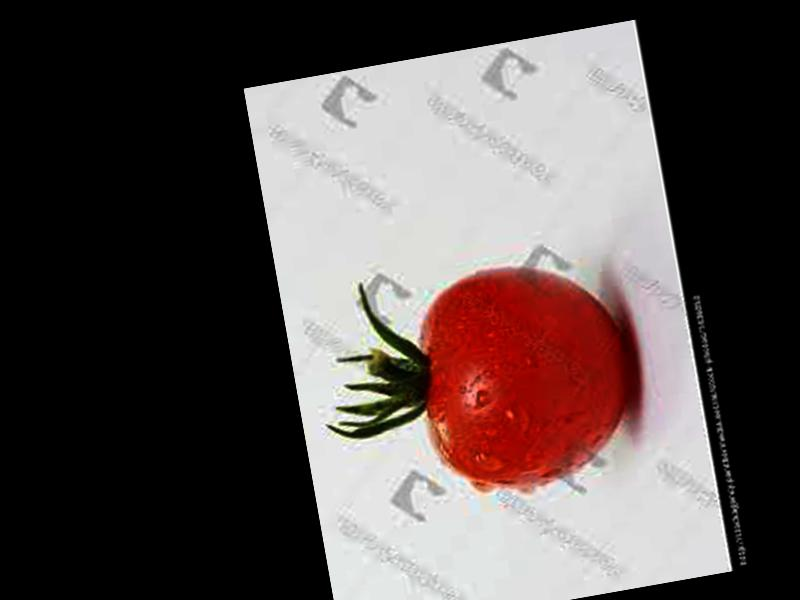Tomato: (405, 248, 647, 496)
